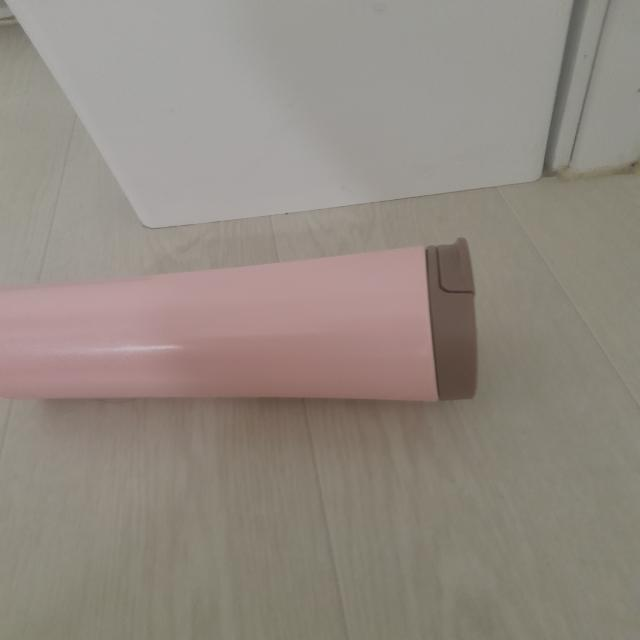waterbottle: (0, 239, 481, 402)
